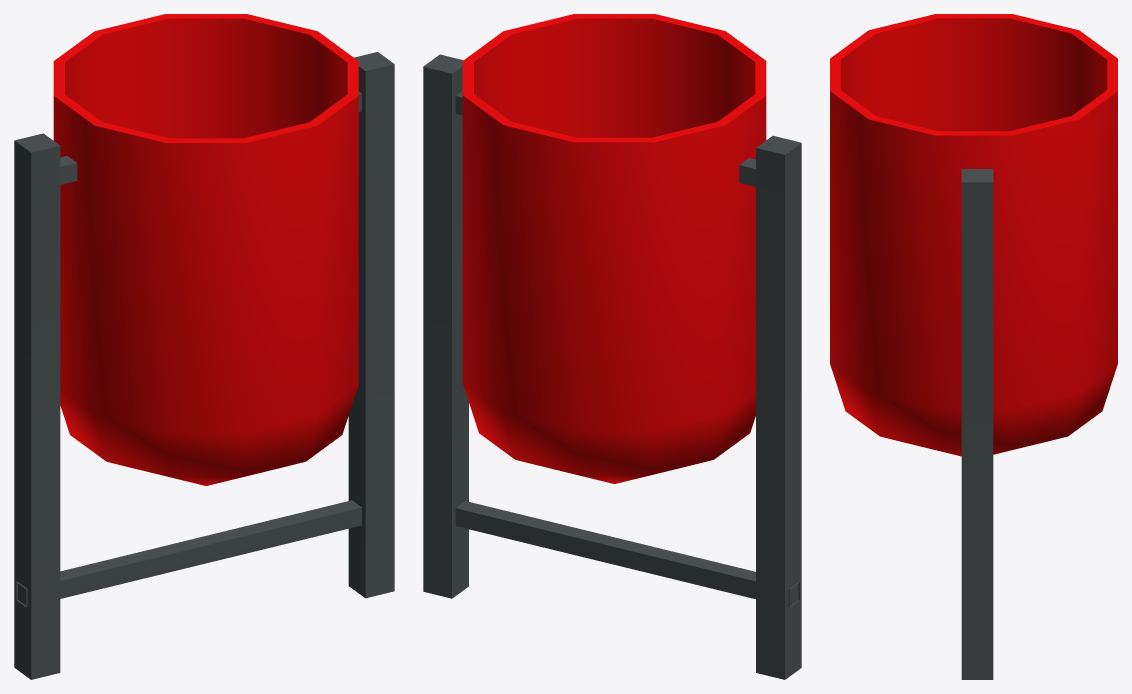
Rendered from SM_Trash_02.fbx.
The picture shows the model from 3 angles, left to right: view 1: azimuth 30°, elevation 25°; view 2: azimuth 150°, elevation 25°; view 3: azimuth 270°, elevation 25°; orthographic projection. The views are drawn at different scales.
Visible parts, largest first — view 1: SM_Trash_02; view 2: SM_Trash_02; view 3: SM_Trash_02.
Part boxes in pixels (x1,y1,x2,y2): SM_Trash_02: (14,14,394,679); SM_Trash_02: (423,14,801,679); SM_Trash_02: (830,14,1117,679).
Size of the model in its own units: 31.66 by 45.8 by 22.91.
Materials: 1 (1 with a texture image).
